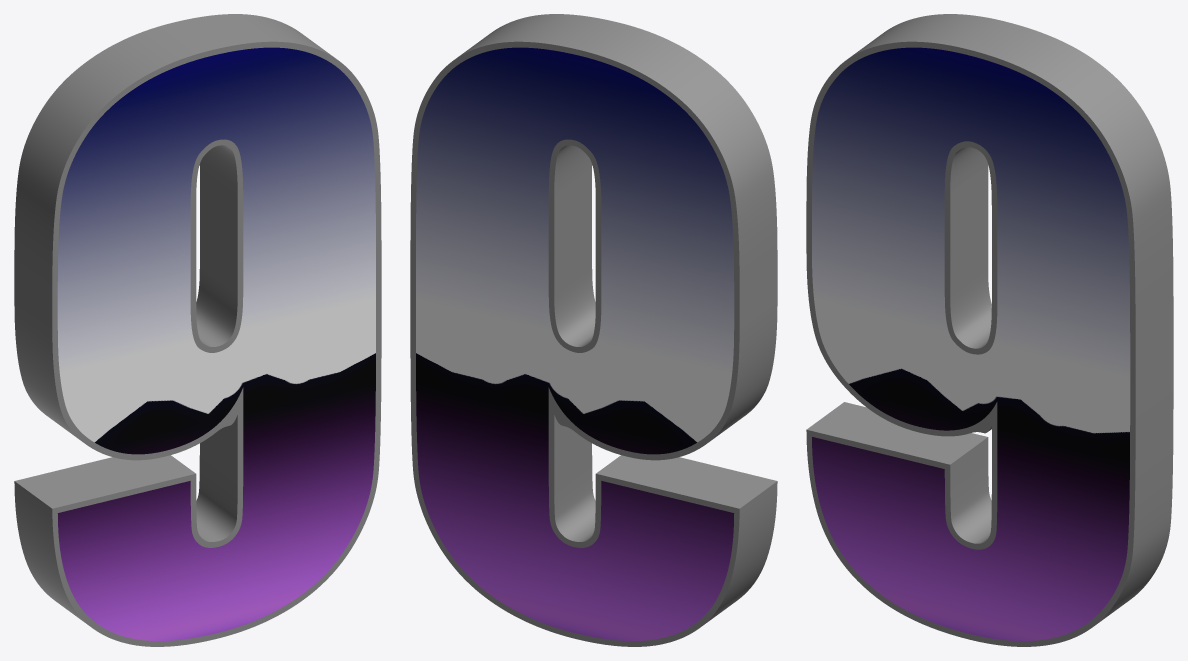
3 views of the same model, side by side, from view 1: azimuth 30°, elevation 25°; view 2: azimuth 150°, elevation 25°; view 3: azimuth 330°, elevation 25° (orthographic).
Visible parts, largest first — view 1: 9, 9_outline; view 2: 9, 9_outline; view 3: 9, 9_outline.
Part boxes in pixels (x1,y1,x2,y2): 9: (57,47,375,640); 9_outline: (14,14,381,646); 9: (416,47,734,640); 9_outline: (410,14,777,646); 9: (812,47,1130,640); 9_outline: (806,14,1173,646).
Bounding box in the file's own units: 60.2 × 103 × 12.
Materials: 2 (1 with a texture image).
